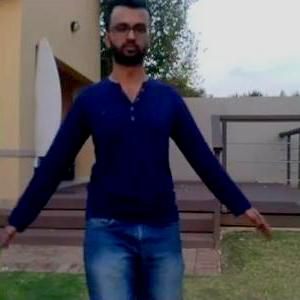land: (12, 41, 230, 298)
